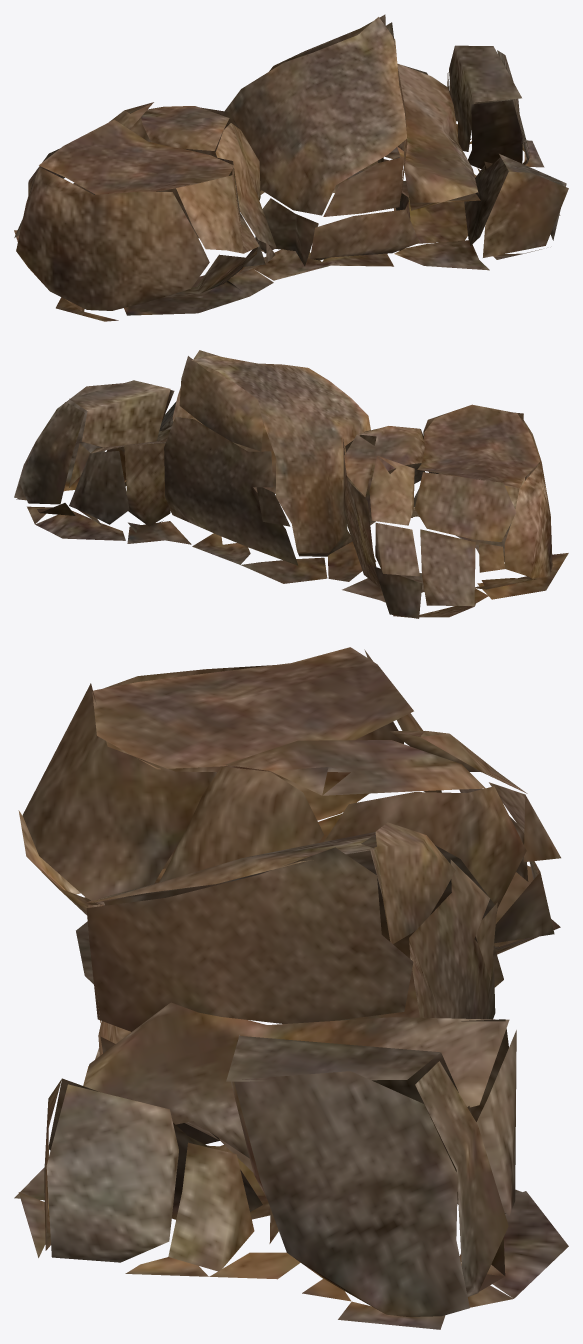
The model's file is boulder-a.glb.
3 views of the same model, one above another, from view 1: azimuth 30°, elevation 25°; view 2: azimuth 150°, elevation 25°; view 3: azimuth 270°, elevation 25° (orthographic). The views are drawn at different scales.
Visible parts, largest first — view 1: boulder_02; view 2: boulder_02; view 3: boulder_02.
Boxes of the visible parts, x1,y1,x2,y2 form: boulder_02: (14, 14, 568, 321); boulder_02: (14, 350, 568, 618); boulder_02: (14, 647, 568, 1329).
Bounding box in the file's own units: 2.5 × 0.851 × 1.23.
Materials: 1 (1 with a texture image).
